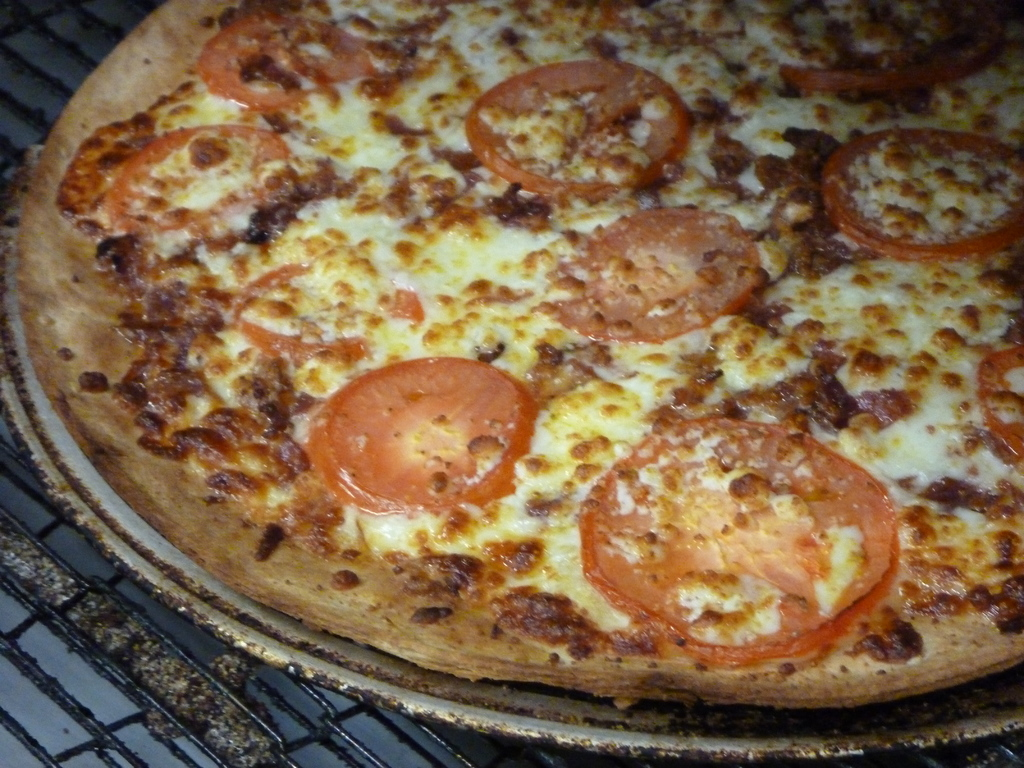Pizza: (17, 0, 1023, 680)
